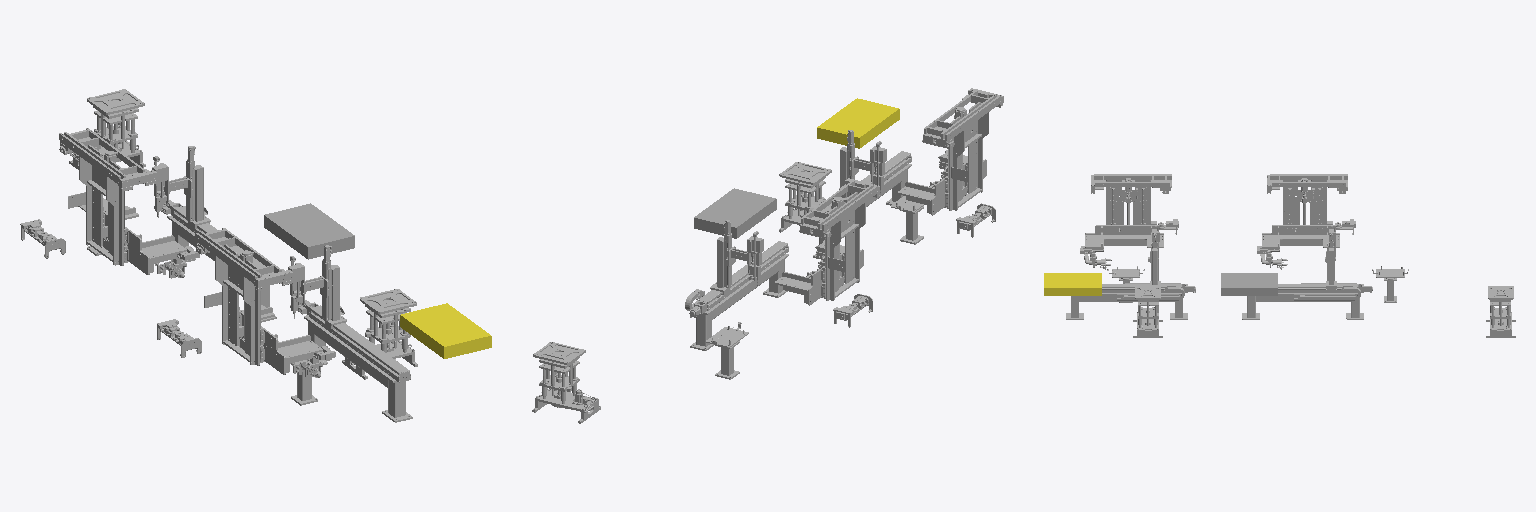
--- Render facts (derived) ---
3 views of the same robot in one strip: view 1: azimuth 30°, elevation 25°; view 2: azimuth 150°, elevation 25°; view 3: azimuth 270°, elevation 25° (orthographic).
Model codenser_double with 41 links and 40 joints (8 revolute, 20 prismatic, 12 fixed), rooted at world, posed all joints at 0.
Visible links, largest first — view 1: c_204_pick_place_system_link_1, c_304_pick_place_system_2_link_1, c_206_height_check_system_base_link, c_207_workpiece_feeder_zone_link, c_307_workpiece_feeder_2_zone_link, c_204_pick_place_system_link_2, c_304_pick_place_system_2_link_2, c_208_workpiece_lifter_link_1, c_308_workpiece_lifter_2_link_1, c_306_height_check_system_2_base_link, c_206_height_check_system_link_1, c_306_height_check_system_2_link_1 (+5 smaller); view 2: c_204_pick_place_system_link_1, c_304_pick_place_system_2_link_1, c_306_height_check_system_2_base_link, c_207_workpiece_feeder_zone_link, c_307_workpiece_feeder_2_zone_link, c_308_workpiece_lifter_2_link_1, c_308_workpiece_lifter_2_base_link, c_204_pick_place_system_link_2, c_304_pick_place_system_2_link_2, c_208_workpiece_lifter_link_1, c_206_height_check_system_base_link, c_305_workpiece_holder_2_base_link (+6 smaller); view 3: c_204_pick_place_system_link_1, c_304_pick_place_system_2_link_1, c_306_height_check_system_2_base_link, c_206_height_check_system_base_link, c_204_pick_place_system_link_2, c_304_pick_place_system_2_link_2, c_207_workpiece_feeder_zone_link, c_307_workpiece_feeder_2_zone_link, c_208_workpiece_lifter_link_1, c_308_workpiece_lifter_2_link_1, c_308_workpiece_lifter_2_base_link.
Link boxes in pixels (left/top/right/bottom): c_204_pick_place_system_link_1: left=195, top=228, right=292, bottom=365; c_304_pick_place_system_2_link_1: left=59, top=128, right=156, bottom=265; c_206_height_check_system_base_link: left=303, top=300, right=412, bottom=422; c_207_workpiece_feeder_zone_link: left=400, top=303, right=491, bottom=358; c_307_workpiece_feeder_2_zone_link: left=264, top=203, right=354, bottom=259; c_204_pick_place_system_link_2: left=239, top=305, right=335, bottom=374; c_304_pick_place_system_2_link_2: left=103, top=206, right=199, bottom=274; c_208_workpiece_lifter_link_1: left=360, top=289, right=416, bottom=352; c_308_workpiece_lifter_2_link_1: left=87, top=89, right=144, bottom=149; c_306_height_check_system_2_base_link: left=167, top=200, right=276, bottom=322; c_206_height_check_system_link_1: left=322, top=245, right=346, bottom=331; c_306_height_check_system_2_link_1: left=186, top=146, right=210, bottom=231; c_204_pick_place_system_link_1: left=922, top=88, right=1003, bottom=210; c_304_pick_place_system_2_link_1: left=799, top=178, right=879, bottom=300; c_306_height_check_system_2_base_link: left=685, top=241, right=788, bottom=350; c_207_workpiece_feeder_zone_link: left=817, top=98, right=899, bottom=148; c_307_workpiece_feeder_2_zone_link: left=694, top=188, right=776, bottom=238; c_308_workpiece_lifter_2_link_1: left=533, top=342, right=585, bottom=400; c_308_workpiece_lifter_2_base_link: left=532, top=361, right=600, bottom=423; c_204_pick_place_system_link_2: left=898, top=150, right=986, bottom=215; c_304_pick_place_system_2_link_2: left=775, top=240, right=863, bottom=305; c_208_workpiece_lifter_link_1: left=779, top=162, right=831, bottom=216; c_206_height_check_system_base_link: left=808, top=151, right=911, bottom=257; c_305_workpiece_holder_2_base_link: left=706, top=322, right=748, bottom=379; c_204_pick_place_system_link_1: left=1091, top=174, right=1171, bottom=224; c_304_pick_place_system_2_link_1: left=1267, top=174, right=1347, bottom=224; c_306_height_check_system_2_base_link: left=1242, top=283, right=1372, bottom=319; c_206_height_check_system_base_link: left=1066, top=283, right=1195, bottom=319; c_204_pick_place_system_link_2: left=1080, top=223, right=1163, bottom=253; c_304_pick_place_system_2_link_2: left=1257, top=223, right=1339, bottom=253; c_207_workpiece_feeder_zone_link: left=1044, top=273, right=1101, bottom=295; c_307_workpiece_feeder_2_zone_link: left=1221, top=273, right=1277, bottom=295; c_208_workpiece_lifter_link_1: left=1135, top=286, right=1160, bottom=325; c_308_workpiece_lifter_2_link_1: left=1488, top=286, right=1513, bottom=325; c_308_workpiece_lifter_2_base_link: left=1486, top=302, right=1515, bottom=337.
Size in the robot's own frame: 1.97 by 5.34 by 1.3 metres.
26 mesh visuals loaded from 19 distinct referenced files (13 binary STL); not drawn: 12 (reference not matched to a file when rendering).

The robot description file, URDF, robot "codenser_double":
<?xml version="1.0" ?>
<!-- =================================================================================== -->
<!-- |    This document was autogenerated by xacro from ./src/component_models/machines/codenser_double/codenser_double_description/urdf/codenser_double.urdf.xacro | -->
<!-- |    EDITING THIS FILE BY HAND IS NOT RECOMMENDED                                 | -->
<!-- =================================================================================== -->
<!-- This URDF was automatically created by SolidWorks to URDF Exporter! Originally created by Stephen Brawner ([email redacted]) 
     Commit Version: 1.6.1-12-ge40d886  Build Version: 1.6.8301.19567
     For more information, please see http://wiki.ros.org/sw_urdf_exporter -->
<robot name="codenser_double">
  <link name="c_203_robot_arm_base_link">
    <inertial>
      <origin rpy="0 0 0" xyz="-2.7746E-05 1.0377E-05 0.11773"/>
      <mass value="2.901"/>
      <inertia ixx="0.021592" ixy="-1.8468E-06" ixz="-9.8111E-08" iyy="0.021626" iyz="1.2451E-07" izz="0.037904"/>
    </inertial>
    <visual>
      <origin rpy="0 0 0" xyz="0 0 0"/>
      <geometry>
        <mesh filename="package://m_2025642_001_description/meshes/base_link.STL"/>
      </geometry>
      <material name="">
        <color rgba="0.75294 0.75294 0.75294 1"/>
      </material>
    </visual>
    <collision>
      <origin rpy="0 0 0" xyz="0 0 0"/>
      <geometry>
        <mesh filename="package://m_2025642_001_description/meshes/base_link.STL"/>
      </geometry>
    </collision>
  </link>
  <link name="c_203_robot_arm_link_1">
    <inertial>
      <origin rpy="0 0 0" xyz="0.27383 -0.0063157 -0.28956"/>
      <mass value="4.7027"/>
      <inertia ixx="0.25522" ixy="0.013056" ixz="-0.34403" iyy="0.85224" iyz="0.0078809" izz="0.63965"/>
    </inertial>
    <visual>
      <origin rpy="0 0 0" xyz="0 0 0"/>
      <geometry>
        <mesh filename="package://m_2025642_001_description/meshes/link_1.STL"/>
      </geometry>
      <material name="">
        <color rgba="0.75294 0.75294 0.75294 1"/>
      </material>
    </visual>
    <collision>
      <origin rpy="0 0 0" xyz="0 0 0"/>
      <geometry>
        <mesh filename="package://m_2025642_001_description/meshes/link_1.STL"/>
      </geometry>
    </collision>
  </link>
  <joint name="c_203_robot_arm_joint_1" type="revolute">
    <origin rpy="0 0 0" xyz="0 0 0.57269"/>
    <parent link="c_203_robot_arm_base_link"/>
    <child link="c_203_robot_arm_link_1"/>
    <axis xyz="0 0 1"/>
    <limit effort="0.1" lower="-1.0" upper="1.0" velocity="0.1"/>
  </joint>
  <link name="c_203_robot_arm_link_2">
    <inertial>
      <origin rpy="0 0 0" xyz="-0.075618 0.013344 -0.40578"/>
      <mass value="4.7027"/>
      <inertia ixx="0.25522" ixy="0.013056" ixz="-0.34403" iyy="0.85224" iyz="0.0078809" izz="0.63965"/>
    </inertial>
    <visual>
      <origin rpy="0 0 0" xyz="0 0 0"/>
      <geometry>
        <mesh filename="package://m_2025642_001_description/meshes/link_2.STL"/>
      </geometry>
      <material name="">
        <color rgba="0.75294 0.75294 0.75294 1"/>
      </material>
    </visual>
    <collision>
      <origin rpy="0 0 0" xyz="0 0 0"/>
      <geometry>
        <mesh filename="package://m_2025642_001_description/meshes/link_2.STL"/>
      </geometry>
    </collision>
  </link>
  <joint name="c_203_robot_arm_joint_2" type="revolute">
    <origin rpy="0 0 0" xyz="0.34945 -0.019659 0.11622"/>
    <parent link="c_203_robot_arm_link_1"/>
    <child link="c_203_robot_arm_link_2"/>
    <axis xyz="0 0 1"/>
    <limit effort="0.1" lower="-1.0" upper="1.0" velocity="0.1"/>
  </joint>
  <link name="c_203_robot_arm_link_3">
    <inertial>
      <origin rpy="0 0 0" xyz="-0.42562 0.013344 -0.39507"/>
      <mass value="4.7027"/>
      <inertia ixx="0.25522" ixy="0.013056" ixz="-0.34403" iyy="0.85224" iyz="0.0078809" izz="0.63965"/>
    </inertial>
    <visual>
      <origin rpy="0 0 0" xyz="0 0 0"/>
      <geometry>
        <mesh filename="package://m_2025642_001_description/meshes/link_3.STL"/>
      </geometry>
      <material name="">
        <color rgba="0.75294 0.75294 0.75294 1"/>
      </material>
    </visual>
    <collision>
      <origin rpy="0 0 0" xyz="0 0 0"/>
      <geometry>
        <mesh filename="package://m_2025642_001_description/meshes/link_3.STL"/>
      </geometry>
    </collision>
  </link>
  <joint name="c_203_robot_arm_joint_3" type="prismatic">
    <origin rpy="0 0 0" xyz="0.35 0 -0.01071"/>
    <parent link="c_203_robot_arm_link_2"/>
    <child link="c_203_robot_arm_link_3"/>
    <axis xyz="0 0 1"/>
    <limit effort="0.1" lower="-0.1" upper="0.05" velocity="0.1"/>
  </joint>
  <link name="c_203_robot_arm_link_4">
    <inertial>
      <origin rpy="0 0 0" xyz="0.018596 0.0019918 0.018216"/>
      <mass value="1.0033"/>
      <inertia ixx="0.00065498" ixy="2.4675E-06" ixz="-1.1852E-05" iyy="0.0040429" iyz="4.0062E-06" izz="0.0045133"/>
    </inertial>
    <visual>
      <origin rpy="0 0 0" xyz="0 0 0"/>
      <geometry>
        <mesh filename="package://m_2025642_001_description/meshes/link_4.STL"/>
      </geometry>
      <material name="">
        <color rgba="0.75294 0.75294 0.75294 1"/>
      </material>
    </visual>
    <collision>
      <origin rpy="0 0 0" xyz="0 0 0"/>
      <geometry>
        <mesh filename="package://m_2025642_001_description/meshes/link_4.STL"/>
      </geometry>
    </collision>
  </link>
  <joint name="c_203_robot_arm_joint_4" type="revolute">
    <origin rpy="0 0 0" xyz="0 0.0020727 -0.155"/>
    <parent link="c_203_robot_arm_link_3"/>
    <child link="c_203_robot_arm_link_4"/>
    <axis xyz="0 0 1"/>
    <limit effort="0.1" lower="-0.2" upper="0.2" velocity="0.1"/>
  </joint>
  <link name="c_203_robot_arm_gripper_right_link">
    <inertial>
      <origin rpy="0 0 0" xyz="-0.042744 0.0023468 0.042891"/>
      <mass value="0.43089"/>
      <inertia ixx="0.00044467" ixy="-5.9136E-06" ixz="5.7977E-05" iyy="0.00073715" iyz="-1.5119E-06" izz="0.00087355"/>
    </inertial>
    <visual>
      <origin rpy="0 0 0" xyz="0 0 0"/>
      <geometry>
        <mesh filename="package://m_2025642_001_description/meshes/gripper_right_link.STL"/>
      </geometry>
      <material name="">
        <color rgba="0.75294 0.75294 0.75294 1"/>
      </material>
    </visual>
    <collision>
      <origin rpy="0 0 0" xyz="0 0 0"/>
      <geometry>
        <mesh filename="package://m_2025642_001_description/meshes/gripper_right_link.STL"/>
      </geometry>
    </collision>
  </link>
  <joint name="c_203_robot_arm_gripper_right_joint" type="prismatic">
    <origin rpy="0 0 0" xyz="0.19 -0.0020727 0.0014243"/>
    <parent link="c_203_robot_arm_link_4"/>
    <child link="c_203_robot_arm_gripper_right_link"/>
    <axis xyz="1 0 0"/>
    <limit effort="0.1" lower="0" upper="0.1" velocity="0.1"/>
  </joint>
  <link name="c_203_robot_arm_gripper_left_link">
    <inertial>
      <origin rpy="0 0 0" xyz="0.007756 0.0016325 0.025599"/>
      <mass value="0.36755"/>
      <inertia ixx="0.00075935" ixy="1.125E-08" ixz="-2.7795E-05" iyy="0.00045486" iyz="5.4225E-08" izz="0.00079529"/>
    </inertial>
    <visual>
      <origin rpy="0 0 0" xyz="0 0 0"/>
      <geometry>
        <mesh filename="package://m_2025642_001_description/meshes/gripper_left_link.STL"/>
      </geometry>
      <material name="">
        <color rgba="0.75294 0.75294 0.75294 1"/>
      </material>
    </visual>
    <collision>
      <origin rpy="0 0 0" xyz="0 0 0"/>
      <geometry>
        <mesh filename="package://m_2025642_001_description/meshes/gripper_left_link.STL"/>
      </geometry>
    </collision>
  </link>
  <joint name="c_203_robot_arm_gripper_left_joint" type="prismatic">
    <origin rpy="0 0 0" xyz="-0.156 -0.0020727 0.0014243"/>
    <parent link="c_203_robot_arm_link_4"/>
    <child link="c_203_robot_arm_gripper_left_link"/>
    <axis xyz="-1 0 0"/>
    <limit effort="0.1" lower="0" upper="0.06" velocity="0.1"/>
  </joint>
  <link name="c_204_pick_place_system_base_link">
    <inertial>
      <origin rpy="0 0 0" xyz="0.58983 0.63355 0.96408"/>
      <mass value="56.671"/>
      <inertia ixx="5.0862" ixy="0.096549" ixz="0.011489" iyy="11.551" iyz="0.00029138" izz="15.131"/>
    </inertial>
    <visual>
      <origin rpy="0 0 0" xyz="0 0 0"/>
      <geometry>
        <mesh filename="package://m_2025643_001_description/meshes/base_link.STL"/>
      </geometry>
      <material name="">
        <color rgba="0.75294 0.75294 0.75294 1"/>
      </material>
    </visual>
    <collision>
      <origin rpy="0 0 0" xyz="0 0 0"/>
      <geometry>
        <mesh filename="package://m_2025643_001_description/meshes/base_link.STL"/>
      </geometry>
    </collision>
  </link>
  <link name="c_204_pick_place_system_link_1">
    <inertial>
      <origin rpy="0 0 0" xyz="0.11461 -0.023751 -0.20534"/>
      <mass value="17.887"/>
      <inertia ixx="0.85265" ixy="0.0020243" ixz="0.0034461" iyy="0.42068" iyz="-0.00010302" izz="0.47399"/>
    </inertial>
    <visual>
      <origin rpy="0 0 0" xyz="0 0 0"/>
      <geometry>
        <mesh filename="package://m_2025643_001_description/meshes/link_1.STL"/>
      </geometry>
      <material name="">
        <color rgba="0.75294 0.75294 0.75294 1"/>
      </material>
    </visual>
    <collision>
      <origin rpy="0 0 0" xyz="0 0 0"/>
      <geometry>
        <mesh filename="package://m_2025643_001_description/meshes/link_1.STL"/>
      </geometry>
    </collision>
  </link>
  <joint name="c_204_pick_place_system_joint_1" type="prismatic">
    <origin rpy="0 0 0" xyz="-0.37671 0.676 1.2315"/>
    <parent link="c_204_pick_place_system_base_link"/>
    <child link="c_204_pick_place_system_link_1"/>
    <axis xyz="1 0 0"/>
    <limit effort="0.1" lower="0" upper="1.5" velocity="0.1"/>
  </joint>
  <link name="c_204_pick_place_system_link_2">
    <inertial>
      <origin rpy="0 0 0" xyz="0.070659 -0.031425 0.0021627"/>
      <mass value="8.1181"/>
      <inertia ixx="0.43894" ixy="0.0013519" ixz="0.00017093" iyy="0.045982" iyz="-0.0024625" izz="0.45094"/>
    </inertial>
    <visual>
      <origin rpy="0 0 0" xyz="0 0 0"/>
      <geometry>
        <mesh filename="package://m_2025643_001_description/meshes/link_2.STL"/>
      </geometry>
      <material name="">
        <color rgba="0.75294 0.75294 0.75294 1"/>
      </material>
    </visual>
    <collision>
      <origin rpy="0 0 0" xyz="0 0 0"/>
      <geometry>
        <mesh filename="package://m_2025643_001_description/meshes/link_2.STL"/>
      </geometry>
    </collision>
  </link>
  <joint name="c_204_pick_place_system_joint_2" type="prismatic">
    <origin rpy="0 0 0" xyz="0.20285 -0.084066 -0.62709"/>
    <parent link="c_204_pick_place_system_link_1"/>
    <child link="c_204_pick_place_system_link_2"/>
    <axis xyz="0 0 1"/>
    <limit effort="0.1" lower="0" upper="0.5" velocity="0.1"/>
  </joint>
  <link name="c_204_pick_place_system_gripper_left_link">
    <inertial>
      <origin rpy="0 0 0" xyz="-0.016946 -0.019226 -0.088431"/>
      <mass value="1.0465"/>
      <inertia ixx="0.0009527" ixy="-0.00010594" ixz="0.00013512" iyy="0.0010535" iyz="0.00011099" izz="0.001289"/>
    </inertial>
    <visual>
      <origin rpy="0 0 0" xyz="0 0 0"/>
      <geometry>
        <mesh filename="package://m_2025643_001_description/meshes/gripper_left_link.STL"/>
      </geometry>
      <material name="">
        <color rgba="0.75294 0.75294 0.75294 1"/>
      </material>
    </visual>
    <collision>
      <origin rpy="0 0 0" xyz="0 0 0"/>
      <geometry>
        <mesh filename="package://m_2025643_001_description/meshes/gripper_left_link.STL"/>
      </geometry>
    </collision>
  </link>
  <joint name="c_204_pick_place_system_gripper_left_joint" type="prismatic">
    <origin rpy="0 0 0" xyz="0.286 -0.37124 -0.046329"/>
    <parent link="c_204_pick_place_system_link_2"/>
    <child link="c_204_pick_place_system_gripper_left_link"/>
    <axis xyz="0 1 0"/>
    <limit effort="0.1" lower="0" upper="0.1" velocity="0.1"/>
  </joint>
  <link name="c_204_pick_place_system_finger_left_link">
    <inertial>
      <origin rpy="0 0 0" xyz="0.0044985 0.062888 -0.006434"/>
      <mass value="0.38585"/>
      <inertia ixx="0.00020691" ixy="2.0797E-07" ixz="-4.5948E-07" iyy="0.00034559" iyz="-3.5191E-07" izz="0.00038383"/>
    </inertial>
    <visual>
      <origin rpy="0 0 0" xyz="0 0 0"/>
      <geometry>
        <mesh filename="package://m_2025643_001_description/meshes/finger_left_link.STL"/>
      </geometry>
      <material name="">
        <color rgba="0.75294 0.75294 0.75294 1"/>
      </material>
    </visual>
    <collision>
      <origin rpy="0 0 0" xyz="0 0 0"/>
      <geometry>
        <mesh filename="package://m_2025643_001_description/meshes/finger_left_link.STL"/>
      </geometry>
    </collision>
  </link>
  <joint name="c_204_pick_place_system_finger_left_joint" type="revolute">
    <origin rpy="0 0 0" xyz="0 0.047 -0.148"/>
    <parent link="c_204_pick_place_system_gripper_left_link"/>
    <child link="c_204_pick_place_system_finger_left_link"/>
    <axis xyz="0 1 0"/>
    <limit effort="0.1" lower="-0.5" upper="0.5" velocity="0.1"/>
  </joint>
  <link name="c_208_workpiece_lifter_base_link">
    <inertial>
      <origin rpy="0 0 0" xyz="0.23397 0.00029888 0.15629"/>
      <mass value="5.7833"/>
      <inertia ixx="0.029824" ixy="0.0001163" ixz="-2.0315E-05" iyy="0.044642" iyz="3.2398E-05" izz="0.057924"/>
    </inertial>
    <visual>
      <origin rpy="0 0 0" xyz="0 0 0"/>
      <geometry>
        <mesh filename="package://m_2063306_000_description/meshes/base_link.STL"/>
      </geometry>
      <material name="">
        <color rgba="0.75294 0.75294 0.75294 1"/>
      </material>
    </visual>
    <collision>
      <origin rpy="0 0 0" xyz="0 0 0"/>
      <geometry>
        <mesh filename="package://m_2063306_000_description/meshes/base_link.STL"/>
      </geometry>
    </collision>
  </link>
  <link name="c_208_workpiece_lifter_link_1">
    <inertial>
      <origin rpy="0 0 0" xyz="-0.0010188 0.00075539 0.25483"/>
      <mass value="4.9135"/>
      <inertia ixx="0.023378" ixy="-0.00023389" ixz="5.6233E-06" iyy="0.026512" iyz="-1.1668E-05" izz="0.044967"/>
    </inertial>
    <visual>
      <origin rpy="0 0 0" xyz="0 0 0"/>
      <geometry>
        <mesh filename="package://m_2063306_000_description/meshes/link_1.STL"/>
      </geometry>
      <material name="">
        <color rgba="0.75294 0.75294 0.75294 1"/>
      </material>
    </visual>
    <collision>
      <origin rpy="0 0 0" xyz="0 0 0"/>
      <geometry>
        <mesh filename="package://m_2063306_000_description/meshes/link_1.STL"/>
      </geometry>
    </collision>
  </link>
  <joint name="c_208_workpiece_lifter_joint_1" type="prismatic">
    <origin rpy="0 0 0" xyz="0.2845 0 0.127"/>
    <parent link="c_208_workpiece_lifter_base_link"/>
    <child link="c_208_workpiece_lifter_link_1"/>
    <axis xyz="0 0 1"/>
    <limit effort="0.1" lower="0" upper="0.1" velocity="0.1"/>
  </joint>
  <link name="c_205_workpiece_holder_base_link">
    <inertial>
      <origin rpy="0 0 0" xyz="-0.00033345 0.00023906 0.25293"/>
      <mass value="2.0735"/>
      <inertia ixx="0.0091049" ixy="-7.0561E-07" ixz="-1.5489E-07" iyy="0.0061399" iyz="4.7348E-08" izz="0.012288"/>
    </inertial>
    <visual>
      <origin rpy="0 0 0" xyz="0 0 0"/>
      <geometry>
        <mesh filename="package://m_2154940_001_description/meshes/base_link.STL"/>
      </geometry>
      <material name="">
        <color rgba="0.75294 0.75294 0.75294 1"/>
      </material>
    </visual>
    <collision>
      <origin rpy="0 0 0" xyz="0 0 0"/>
      <geometry>
        <mesh filename="package://m_2154940_001_description/meshes/base_link.STL"/>
      </geometry>
    </collision>
  </link>
  <link name="c_206_height_check_system_base_link">
    <inertial>
      <origin rpy="0 0 0" xyz="-0.0079588 0.53745 0.29257"/>
      <mass value="25.945"/>
      <inertia ixx="3.1047" ixy="7.4183E-05" ixz="-0.00021729" iyy="0.061286" iyz="0.0088416" izz="3.1103"/>
    </inertial>
    <visual>
      <origin rpy="0 0 0" xyz="0 0 0"/>
      <geometry>
        <mesh filename="package://m_4730788_001_description/meshes/base_link.STL"/>
      </geometry>
      <material name="">
        <color rgba="0.75294 0.75294 0.75294 1"/>
      </material>
    </visual>
    <collision>
      <origin rpy="0 0 0" xyz="0 0 0"/>
      <geometry>
        <mesh filename="package://m_4730788_001_description/meshes/base_link.STL"/>
      </geometry>
    </collision>
  </link>
  <link name="c_206_height_check_system_link_1">
    <inertial>
      <origin rpy="0 0 0" xyz="0.035968 0.27493 0.22182"/>
      <mass value="5.6095"/>
      <inertia ixx="0.069776" ixy="-4.5144E-06" ixz="-0.00039418" iyy="0.068863" iyz="-3.9361E-06" izz="0.0062752"/>
    </inertial>
    <visual>
      <origin rpy="0 0 0" xyz="0 0 0"/>
      <geometry>
        <mesh filename="package://m_4730788_001_description/meshes/link_1.STL"/>
      </geometry>
      <material name="">
        <color rgba="0.75294 0.75294 0.75294 1"/>
      </material>
    </visual>
    <collision>
      <origin rpy="0 0 0" xyz="0 0 0"/>
      <geometry>
        <mesh filename="package://m_4730788_001_description/meshes/link_1.STL"/>
      </geometry>
    </collision>
  </link>
  <joint name="c_206_height_check_system_joint_1" type="prismatic">
    <origin rpy="0 0 0" xyz="0 -0.0041461 0.37535"/>
    <parent link="c_206_height_check_system_base_link"/>
    <child link="c_206_height_check_system_link_1"/>
    <axis xyz="0 1 0"/>
    <limit effort="0.1" lower="0" upper="1.0" velocity="0.1"/>
  </joint>
  <link name="c_206_height_check_system_link_2">
    <inertial>
      <origin rpy="0 0 0" xyz="0.1819 1.4438E-05 -0.12956"/>
      <mass value="1.8798"/>
      <inertia ixx="0.0025187" ixy="-1.2207E-05" ixz="8.5334E-07" iyy="0.0027656" iyz="1.0645E-07" izz="0.0012183"/>
    </inertial>
    <visual>
      <origin rpy="0 0 0" xyz="0 0 0"/>
      <geometry>
        <mesh filename="package://m_4730788_001_description/meshes/link_2.STL"/>
      </geometry>
      <material name="">
        <color rgba="0.75294 0.75294 0.75294 1"/>
      </material>
    </visual>
    <collision>
      <origin rpy="0 0 0" xyz="0 0 0"/>
      <geometry>
        <mesh filename="package://m_4730788_001_description/meshes/link_2.STL"/>
      </geometry>
    </collision>
  </link>
  <joint name="c_206_height_check_system_joint_2" type="prismatic">
    <origin rpy="0 0 0" xyz="0.074922 0.27494 0.46365"/>
    <parent link="c_206_height_check_system_link_1"/>
    <child link="c_206_height_check_system_link_2"/>
    <axis xyz="0 0 1"/>
    <limit effort="0.1" lower="-0.2" upper="0.25" velocity="0.1"/>
  </joint>
  <link name="c_207_workpiece_feeder_base_link">
    <inertial>
      <origin rpy="0 0 0" xyz="-0.14164 -0.59781 -0.44321"/>
      <mass value="21.523"/>
      <inertia ixx="0.088184" ixy="3.5897E-05" ixz="-1.1803E-05" iyy="2.7101" iyz="-0.0006684" izz="2.6633"/>
    </inertial>
    <visual>
      <origin rpy="0 0 0" xyz="0 0 0"/>
      <geometry>
        <mesh filename="package://m_5326927_001_description/meshes/base_link.STL"/>
      </geometry>
      <material name="">
        <color rgba="0.8549 0.74118 0.91765 1"/>
      </material>
    </visual>
    <collision>
      <origin rpy="0 0 0" xyz="0 0 0"/>
      <geometry>
        <mesh filename="package://m_5326927_001_description/meshes/base_link.STL"/>
      </geometry>
    </collision>
  </link>
  <link name="c_207_workpiece_feeder_zone_link">
    <visual>
      <origin rpy="0 0 0" xyz="0 0 0"/>
      <geometry>
        <box size="0.4 0.65 0.1"/>
      </geometry>
    </visual>
    <collision>
      <origin rpy="0 0 0" xyz="0 0 0"/>
      <geometry>
        <box size="0.4 0.65 0.1"/>
      </geometry>
    </collision>
  </link>
  <joint name="c_207_workpiece_feeder_joint_1" type="prismatic">
    <origin rpy="0 0 0" xyz="0 0 0.6"/>
    <parent link="c_207_workpiece_feeder_base_link"/>
    <child link="c_207_workpiece_feeder_zone_link"/>
    <axis xyz="0 1 0"/>
    <limit effort="0.1" lower="0" upper="1.5" velocity="0.1"/>
  </joint>
  <link name="c_303_robot_arm_2_base_link">
    <inertial>
      <origin rpy="0 0 0" xyz="-2.7746E-05 1.0377E-05 0.11773"/>
      <mass value="2.901"/>
      <inertia ixx="0.021592" ixy="-1.8468E-06" ixz="-9.8111E-08" iyy="0.021626" iyz="1.2451E-07" izz="0.037904"/>
    </inertial>
    <visual>
      <origin rpy="0 0 0" xyz="0 0 0"/>
      <geometry>
        <mesh filename="package://m_2025642_001_description/meshes/base_link.STL"/>
      </geometry>
      <material name="">
        <color rgba="0.75294 0.75294 0.75294 1"/>
      </material>
    </visual>
    <collision>
      <origin rpy="0 0 0" xyz="0 0 0"/>
      <geometry>
        <mesh filename="package://m_2025642_001_description/meshes/base_link.STL"/>
      </geometry>
    </collision>
  </link>
  <link name="c_303_robot_arm_2_link_1">
    <inertial>
      <origin rpy="0 0 0" xyz="0.27383 -0.0063157 -0.28956"/>
      <mass value="4.7027"/>
      <inertia ixx="0.25522" ixy="0.013056" ixz="-0.34403" iyy="0.85224" iyz="0.0078809" izz="0.63965"/>
    </inertial>
    <visual>
      <origin rpy="0 0 0" xyz="0 0 0"/>
      <geometry>
        <mesh filename="package://m_2025642_001_description/meshes/link_1.STL"/>
      </geometry>
      <material name="">
        <color rgba="0.75294 0.75294 0.75294 1"/>
      </material>
    </visual>
    <collision>
      <origin rpy="0 0 0" xyz="0 0 0"/>
      <geometry>
        <mesh filename="package://m_2025642_001_description/meshes/link_1.STL"/>
      </geometry>
    </collision>
  </link>
  <joint name="c_303_robot_arm_2_joint_1" type="revolute">
    <origin rpy="0 0 0" xyz="0 0 0.57269"/>
    <parent link="c_303_robot_arm_2_base_link"/>
    <child link="c_303_robot_arm_2_link_1"/>
    <axis xyz="0 0 1"/>
    <limit effort="0.1" lower="-1.0" upper="1.0" velocity="0.1"/>
  </joint>
  <link name="c_303_robot_arm_2_link_2">
    <inertial>
      <origin rpy="0 0 0" xyz="-0.075618 0.013344 -0.40578"/>
      <mass value="4.7027"/>
      <inertia ixx="0.25522" ixy="0.013056" ixz="-0.34403" iyy="0.85224" iyz="0.0078809" izz="0.63965"/>
    </inertial>
    <visual>
      <origin rpy="0 0 0" xyz="0 0 0"/>
      <geometry>
        <mesh filename="package://m_2025642_001_description/meshes/link_2.STL"/>
      </geometry>
      <material name="">
        <color rgba="0.75294 0.75294 0.75294 1"/>
      </material>
    </visual>
    <collision>
      <origin rpy="0 0 0" xyz="0 0 0"/>
      <geometry>
        <mesh filename="package://m_2025642_001_description/meshes/link_2.STL"/>
      </geometry>
    </collision>
  </link>
  <joint name="c_303_robot_arm_2_joint_2" type="revolute">
    <origin rpy="0 0 0" xyz="0.34945 -0.019659 0.11622"/>
    <parent link="c_303_robot_arm_2_link_1"/>
    <child link="c_303_robot_arm_2_link_2"/>
    <axis xyz="0 0 1"/>
    <limit effort="0.1" lower="-1.0" upper="1.0" velocity="0.1"/>
  </joint>
  <link name="c_303_robot_arm_2_link_3">
    <inertial>
      <origin rpy="0 0 0" xyz="-0.42562 0.013344 -0.39507"/>
      <mass value="4.7027"/>
      <inertia ixx="0.25522" ixy="0.013056" ixz="-0.34403" iyy="0.85224" iyz="0.0078809" izz="0.63965"/>
    </inertial>
    <visual>
      <origin rpy="0 0 0" xyz="0 0 0"/>
      <geometry>
        <mesh filename="package://m_2025642_001_description/meshes/link_3.STL"/>
      </geometry>
      <material name="">
        <color rgba="0.75294 0.75294 0.75294 1"/>
      </material>
    </visual>
    <collision>
      <origin rpy="0 0 0" xyz="0 0 0"/>
      <geometry>
        <mesh filename="package://m_2025642_001_description/meshes/link_3.STL"/>
      </geometry>
    </collision>
  </link>
  <joint name="c_303_robot_arm_2_joint_3" type="prismatic">
    <origin rpy="0 0 0" xyz="0.35 0 -0.01071"/>
    <parent link="c_303_robot_arm_2_link_2"/>
    <child link="c_303_robot_arm_2_link_3"/>
    <axis xyz="0 0 1"/>
    <limit effort="0.1" lower="-0.1" upper="0.05" velocity="0.1"/>
  </joint>
  <link name="c_303_robot_arm_2_link_4">
    <inertial>
      <origin rpy="0 0 0" xyz="0.018596 0.0019918 0.018216"/>
      <mass value="1.0033"/>
      <inertia ixx="0.00065498" ixy="2.4675E-06" ixz="-1.1852E-05" iyy="0.0040429" iyz="4.0062E-06" izz="0.0045133"/>
    </inertial>
    <visual>
      <origin rpy="0 0 0" xyz="0 0 0"/>
      <geometry>
        <mesh filename="package://m_2025642_001_description/meshes/link_4.STL"/>
      </geometry>
      <material name="">
        <color rgba="0.75294 0.75294 0.75294 1"/>
      </material>
    </visual>
    <collision>
      <origin rpy="0 0 0" xyz="0 0 0"/>
      <geometry>
        <mesh filename="package://m_2025642_001_description/meshes/link_4.STL"/>
      </geometry>
    </collision>
  </link>
  <joint name="c_303_robot_arm_2_joint_4" type="revolute">
    <origin rpy="0 0 0" xyz="0 0.0020727 -0.155"/>
    <parent link="c_303_robot_arm_2_link_3"/>
    <child link="c_303_robot_arm_2_link_4"/>
    <axis xyz="0 0 1"/>
    <limit effort="0.1" lower="-0.2" upper="0.2" velocity="0.1"/>
  </joint>
  <link name="c_303_robot_arm_2_gripper_right_link">
    <inertial>
      <origin rpy="0 0 0" xyz="-0.042744 0.0023468 0.042891"/>
      <mass value="0.43089"/>
      <inertia ixx="0.00044467" ixy="-5.9136E-06" ixz="5.7977E-05" iyy="0.00073715" iyz="-1.5119E-06" izz="0.00087355"/>
    </inertial>
    <visual>
      <origin rpy="0 0 0" xyz="0 0 0"/>
      <geometry>
        <mesh filename="package://m_2025642_001_description/meshes/gripper_right_link.STL"/>
      </geometry>
      <material name="">
        <color rgba="0.75294 0.75294 0.75294 1"/>
      </material>
    </visual>
    <collision>
      <origin rpy="0 0 0" xyz="0 0 0"/>
      <geometry>
        <mesh filename="package://m_2025642_001_description/meshes/gripper_right_link.STL"/>
      </geometry>
    </collision>
  </link>
  <joint name="c_303_robot_arm_2_gripper_right_joint" type="prismatic">
    <origin rpy="0 0 0" xyz="0.19 -0.0020727 0.0014243"/>
    <parent link="c_303_robot_arm_2_link_4"/>
    <child link="c_303_robot_arm_2_gripper_right_link"/>
    <axis xyz="1 0 0"/>
    <limit effort="0.1" lower="0" upper="0.1" velocity="0.1"/>
  </joint>
  <link name="c_303_robot_arm_2_gripper_left_link">
    <inertial>
      <origin rpy="0 0 0" xyz="0.007756 0.0016325 0.025599"/>
      <mass value="0.36755"/>
      <inertia ixx="0.00075935" ixy="1.125E-08" ixz="-2.7795E-05" iyy="0.00045486" iyz="5.4225E-08" izz="0.00079529"/>
    </inertial>
    <visual>
      <origin rpy="0 0 0" xyz="0 0 0"/>
      <geometry>
        <mesh filename="package://m_2025642_001_description/meshes/gripper_left_link.STL"/>
      </geometry>
      <material name="">
        <color rgba="0.75294 0.75294 0.75294 1"/>
      </material>
    </visual>
    <collision>
      <origin rpy="0 0 0" xyz="0 0 0"/>
      <geometry>
        <mesh filename="package://m_2025642_001_description/meshes/gripper_left_link.STL"/>
      </geometry>
    </collision>
  </link>
  <joint name="c_303_robot_arm_2_gripper_left_joint" type="prismatic">
    <origin rpy="0 0 0" xyz="-0.156 -0.0020727 0.0014243"/>
    <parent link="c_303_robot_arm_2_link_4"/>
    <child link="c_303_robot_arm_2_gripper_left_link"/>
    <axis xyz="-1 0 0"/>
    <limit effort="0.1" lower="0" upper="0.06" velocity="0.1"/>
  </joint>
  <link name="c_304_pick_place_system_2_base_link">
    <inertial>
      <origin rpy="0 0 0" xyz="0.58983 0.63355 0.96408"/>
      <mass value="56.671"/>
      <inertia ixx="5.0862" ixy="0.096549" ixz="0.011489" iyy="11.551" iyz="0.00029138" izz="15.131"/>
    </inertial>
    <visual>
      <origin rpy="0 0 0" xyz="0 0 0"/>
      <geometry>
        <mesh filename="package://m_2025643_001_description/meshes/base_link.STL"/>
      </geometry>
      <material name="">
        <color rgba="0.75294 0.75294 0.75294 1"/>
      </material>
    </visual>
    <collision>
      <origin rpy="0 0 0" xyz="0 0 0"/>
      <geometry>
        <mesh filename="package://m_2025643_001_description/meshes/base_link.STL"/>
      </geometry>
    </collision>
  </link>
  <link name="c_304_pick_place_system_2_link_1">
    <inertial>
      <origin rpy="0 0 0" xyz="0.11461 -0.023751 -0.20534"/>
      <mass value="17.887"/>
      <inertia ixx="0.85265" ixy="0.0020243" ixz="0.0034461" iyy="0.42068" iyz="-0.00010302" izz="0.47399"/>
    </inertial>
    <visual>
      <origin rpy="0 0 0" xyz="0 0 0"/>
      <geometry>
        <mesh filename="package://m_2025643_001_description/meshes/link_1.STL"/>
      </geometry>
      <material name="">
        <color rgba="0.75294 0.75294 0.75294 1"/>
      </material>
    </visual>
    <collision>
      <origin rpy="0 0 0" xyz="0 0 0"/>
      <geometry>
        <mesh filename="package://m_2025643_001_description/meshes/link_1.STL"/>
      </geometry>
    </collision>
  </link>
  <joint name="c_304_pick_place_system_2_joint_1" type="prismatic">
    <origin rpy="0 0 0" xyz="-0.37671 0.676 1.2315"/>
    <parent link="c_304_pick_place_system_2_base_link"/>
    <child link="c_304_pick_place_system_2_link_1"/>
    <axis xyz="1 0 0"/>
    <limit effort="0.1" lower="0" upper="1.5" velocity="0.1"/>
  </joint>
  <link name="c_304_pick_place_system_2_link_2">
    <inertial>
      <origin rpy="0 0 0" xyz="0.070659 -0.031425 0.0021627"/>
      <mass value="8.1181"/>
      <inertia ixx="0.43894" ixy="0.0013519" ixz="0.00017093" iyy="0.045982" iyz="-0.0024625" izz="0.45094"/>
    </inertial>
    <visual>
      <origin rpy="0 0 0" xyz="0 0 0"/>
      <geometry>
        <mesh filename="package://m_2025643_001_description/meshes/link_2.STL"/>
      </geometry>
      <material name="">
        <color rgba="0.75294 0.75294 0.75294 1"/>
      </material>
    </visual>
    <collision>
      <origin rpy="0 0 0" xyz="0 0 0"/>
      <geometry>
        <mesh filename="package://m_2025643_001_description/meshes/link_2.STL"/>
      </geometry>
    </collision>
  </link>
  <joint name="c_304_pick_place_system_2_joint_2" type="prismatic">
    <origin rpy="0 0 0" xyz="0.20285 -0.084066 -0.62709"/>
    <parent link="c_304_pick_place_system_2_link_1"/>
    <child link="c_304_pick_place_system_2_link_2"/>
    <axis xyz="0 0 1"/>
    <limit effort="0.1" lower="0" upper="0.5" velocity="0.1"/>
  </joint>
  <link name="c_304_pick_place_system_2_gripper_left_link">
    <inertial>
      <origin rpy="0 0 0" xyz="-0.016946 -0.019226 -0.088431"/>
      <mass value="1.0465"/>
      <inertia ixx="0.0009527" ixy="-0.00010594" ixz="0.00013512" iyy="0.0010535" iyz="0.00011099" izz="0.001289"/>
    </inertial>
    <visual>
      <origin rpy="0 0 0" xyz="0 0 0"/>
      <geometry>
        <mesh filename="package://m_2025643_001_description/meshes/gripper_left_link.STL"/>
      </geometry>
      <material name="">
        <color rgba="0.75294 0.75294 0.75294 1"/>
      </material>
    </visual>
    <collision>
      <origin rpy="0 0 0" xyz="0 0 0"/>
      <geometry>
        <mesh filename="package://m_2025643_001_description/meshes/gripper_left_link.STL"/>
      </geometry>
    </collision>
  </link>
  <joint name="c_304_pick_place_system_2_gripper_left_joint" type="prismatic">
    <origin rpy="0 0 0" xyz="0.286 -0.37124 -0.046329"/>
    <parent link="c_304_pick_place_system_2_link_2"/>
    <child link="c_304_pick_place_system_2_gripper_left_link"/>
    <axis xyz="0 1 0"/>
    <limit effort="0.1" lower="0" upper="0.1" velocity="0.1"/>
  </joint>
  <link name="c_304_pick_place_system_2_finger_left_link">
    <inertial>
      <origin rpy="0 0 0" xyz="0.0044985 0.062888 -0.006434"/>
      <mass value="0.38585"/>
      <inertia ixx="0.00020691" ixy="2.0797E-07" ixz="-4.5948E-07" iyy="0.00034559" iyz="-3.5191E-07" izz="0.00038383"/>
    </inertial>
    <visual>
      <origin rpy="0 0 0" xyz="0 0 0"/>
      <geometry>
        <mesh filename="package://m_2025643_001_description/meshes/finger_left_link.STL"/>
      </geometry>
      <material name="">
        <color rgba="0.75294 0.75294 0.75294 1"/>
      </material>
    </visual>
    <collision>
      <origin rpy="0 0 0" xyz="0 0 0"/>
      <geometry>
        <mesh filename="package://m_2025643_001_description/meshes/finger_left_link.STL"/>
      </geometry>
    </collision>
  </link>
  <joint name="c_304_pick_place_system_2_finger_left_joint" type="revolute">
    <origin rpy="0 0 0" xyz="0 0.047 -0.148"/>
    <parent link="c_304_pick_place_system_2_gripper_left_link"/>
    <child link="c_304_pick_place_system_2_finger_left_link"/>
    <axis xyz="0 1 0"/>
    <limit effort="0.1" lower="-0.5" upper="0.5" velocity="0.1"/>
  </joint>
  <link name="c_308_workpiece_lifter_2_base_link">
    <inertial>
      <origin rpy="0 0 0" xyz="0.23397 0.00029888 0.15629"/>
      <mass value="5.7833"/>
      <inertia ixx="0.029824" ixy="0.0001163" ixz="-2.0315E-05" iyy="0.044642" iyz="3.2398E-05" izz="0.057924"/>
    </inertial>
    <visual>
      <origin rpy="0 0 0" xyz="0 0 0"/>
      <geometry>
        <mesh filename="package://m_2063306_000_description/meshes/base_link.STL"/>
      </geometry>
      <material name="">
        <color rgba="0.75294 0.75294 0.75294 1"/>
      </material>
    </visual>
    <collision>
      <origin rpy="0 0 0" xyz="0 0 0"/>
      <geometry>
        <mesh filename="package://m_2063306_000_description/meshes/base_link.STL"/>
      </geometry>
    </collision>
  </link>
  <link name="c_308_workpiece_lifter_2_link_1">
    <inertial>
      <origin rpy="0 0 0" xyz="-0.0010188 0.00075539 0.25483"/>
      <mass value="4.9135"/>
      <inertia ixx="0.023378" ixy="-0.00023389" ixz="5.6233E-06" iyy="0.026512" iyz="-1.1668E-05" izz="0.044967"/>
    </inertial>
    <visual>
      <origin rpy="0 0 0" xyz="0 0 0"/>
      <geometry>
        <mesh filename="package://m_2063306_000_description/meshes/link_1.STL"/>
      </geometry>
      <material name="">
        <color rgba="0.75294 0.75294 0.75294 1"/>
      </material>
    </visual>
    <collision>
      <origin rpy="0 0 0" xyz="0 0 0"/>
      <geometry>
        <mesh filename="package://m_2063306_000_description/meshes/link_1.STL"/>
      </geometry>
    </collision>
  </link>
  <joint name="c_308_workpiece_lifter_2_joint_1" type="prismatic">
    <origin rpy="0 0 0" xyz="0.2845 0 0.127"/>
    <parent link="c_308_workpiece_lifter_2_base_link"/>
    <child link="c_308_workpiece_lifter_2_link_1"/>
    <axis xyz="0 0 1"/>
    <limit effort="0.1" lower="0" upper="0.1" velocity="0.1"/>
  </joint>
  <link name="c_305_workpiece_holder_2_base_link">
    <inertial>
      <origin rpy="0 0 0" xyz="-0.00033345 0.00023906 0.25293"/>
      <mass value="2.0735"/>
      <inertia ixx="0.0091049" ixy="-7.0561E-07" ixz="-1.5489E-07" iyy="0.0061399" iyz="4.7348E-08" izz="0.012288"/>
    </inertial>
    <visual>
      <origin rpy="0 0 0" xyz="0 0 0"/>
      <geometry>
        <mesh filename="package://m_2154940_001_description/meshes/base_link.STL"/>
      </geometry>
      <material name="">
        <color rgba="0.75294 0.75294 0.75294 1"/>
      </material>
    </visual>
    <collision>
      <origin rpy="0 0 0" xyz="0 0 0"/>
      <geometry>
        <mesh filename="package://m_2154940_001_description/meshes/base_link.STL"/>
      </geometry>
    </collision>
  </link>
  <link name="c_306_height_check_system_2_base_link">
    <inertial>
      <origin rpy="0 0 0" xyz="-0.0079588 0.53745 0.29257"/>
      <mass value="25.945"/>
      <inertia ixx="3.1047" ixy="7.4183E-05" ixz="-0.00021729" iyy="0.061286" iyz="0.0088416" izz="3.1103"/>
    </inertial>
    <visual>
      <origin rpy="0 0 0" xyz="0 0 0"/>
      <geometry>
        <mesh filename="package://m_4730788_001_description/meshes/base_link.STL"/>
      </geometry>
      <material name="">
        <color rgba="0.75294 0.75294 0.75294 1"/>
      </material>
    </visual>
    <collision>
      <origin rpy="0 0 0" xyz="0 0 0"/>
      <geometry>
        <mesh filename="package://m_4730788_001_description/meshes/base_link.STL"/>
      </geometry>
    </collision>
  </link>
  <link name="c_306_height_check_system_2_link_1">
    <inertial>
      <origin rpy="0 0 0" xyz="0.035968 0.27493 0.22182"/>
      <mass value="5.6095"/>
      <inertia ixx="0.069776" ixy="-4.5144E-06" ixz="-0.00039418" iyy="0.068863" iyz="-3.9361E-06" izz="0.0062752"/>
    </inertial>
    <visual>
      <origin rpy="0 0 0" xyz="0 0 0"/>
      <geometry>
        <mesh filename="package://m_4730788_001_description/meshes/link_1.STL"/>
      </geometry>
      <material name="">
        <color rgba="0.75294 0.75294 0.75294 1"/>
      </material>
    </visual>
    <collision>
      <origin rpy="0 0 0" xyz="0 0 0"/>
      <geometry>
        <mesh filename="package://m_4730788_001_description/meshes/link_1.STL"/>
      </geometry>
    </collision>
  </link>
  <joint name="c_306_height_check_system_2_joint_1" type="prismatic">
    <origin rpy="0 0 0" xyz="0 -0.0041461 0.37535"/>
    <parent link="c_306_height_check_system_2_base_link"/>
    <child link="c_306_height_check_system_2_link_1"/>
    <axis xyz="0 1 0"/>
    <limit effort="0.1" lower="0" upper="1.0" velocity="0.1"/>
  </joint>
  <link name="c_306_height_check_system_2_link_2">
    <inertial>
      <origin rpy="0 0 0" xyz="0.1819 1.4438E-05 -0.12956"/>
      <mass value="1.8798"/>
      <inertia ixx="0.0025187" ixy="-1.2207E-05" ixz="8.5334E-07" iyy="0.0027656" iyz="1.0645E-07" izz="0.0012183"/>
    </inertial>
    <visual>
      <origin rpy="0 0 0" xyz="0 0 0"/>
      <geometry>
        <mesh filename="package://m_4730788_001_description/meshes/link_2.STL"/>
      </geometry>
      <material name="">
        <color rgba="0.75294 0.75294 0.75294 1"/>
      </material>
    </visual>
    <collision>
      <origin rpy="0 0 0" xyz="0 0 0"/>
      <geometry>
        <mesh filename="package://m_4730788_001_description/meshes/link_2.STL"/>
      </geometry>
    </collision>
  </link>
  <joint name="c_306_height_check_system_2_joint_2" type="prismatic">
    <origin rpy="0 0 0" xyz="0.074922 0.27494 0.46365"/>
    <parent link="c_306_height_check_system_2_link_1"/>
    <child link="c_306_height_check_system_2_link_2"/>
    <axis xyz="0 0 1"/>
    <limit effort="0.1" lower="-0.2" upper="0.25" velocity="0.1"/>
  </joint>
  <link name="c_307_workpiece_feeder_2_base_link">
    <inertial>
      <origin rpy="0 0 0" xyz="-0.14164 -0.59781 -0.44321"/>
      <mass value="21.523"/>
      <inertia ixx="0.088184" ixy="3.5897E-05" ixz="-1.1803E-05" iyy="2.7101" iyz="-0.0006684" izz="2.6633"/>
    </inertial>
    <visual>
      <origin rpy="0 0 0" xyz="0 0 0"/>
      <geometry>
        <mesh filename="package://m_5326927_001_description/meshes/base_link.STL"/>
      </geometry>
      <material name="">
        <color rgba="0.8549 0.74118 0.91765 1"/>
      </material>
    </visual>
    <collision>
      <origin rpy="0 0 0" xyz="0 0 0"/>
      <geometry>
        <mesh filename="package://m_5326927_001_description/meshes/base_link.STL"/>
      </geometry>
    </collision>
  </link>
  <link name="c_307_workpiece_feeder_2_zone_link">
    <visual>
      <origin rpy="0 0 0" xyz="0 0 0"/>
      <geometry>
        <box size="0.4 0.65 0.1"/>
      </geometry>
    </visual>
    <collision>
      <origin rpy="0 0 0" xyz="0 0 0"/>
      <geometry>
        <box size="0.4 0.65 0.1"/>
      </geometry>
    </collision>
  </link>
  <joint name="c_307_workpiece_feeder_2_joint_1" type="prismatic">
    <origin rpy="0 0 0" xyz="0 0 0.6"/>
    <parent link="c_307_workpiece_feeder_2_base_link"/>
    <child link="c_307_workpiece_feeder_2_zone_link"/>
    <axis xyz="0 1 0"/>
    <limit effort="0.1" lower="0" upper="1.5" velocity="0.1"/>
  </joint>
  <link name="world"/>
  <joint name="c_203_robot_arm_joint" type="fixed">
    <origin rpy="0 0 1.571" xyz="-0.6 0.3 0"/>
    <parent link="world"/>
    <child link="c_203_robot_arm_base_link"/>
  </joint>
  <joint name="c_204_pick_place_system_joint" type="fixed">
    <origin rpy="0 0 0" xyz="0 0 0"/>
    <parent link="world"/>
    <child link="c_204_pick_place_system_base_link"/>
  </joint>
  <joint name="c_205_workpiece_holder_joint" type="fixed">
    <origin rpy="0 0 0" xyz="0.25 0.6 0"/>
    <parent link="world"/>
    <child link="c_205_workpiece_holder_base_link"/>
  </joint>
  <joint name="c_206_height_check_system_joint" type="fixed">
    <origin rpy="0 0 3.142" xyz="0.7 1.2 0"/>
    <parent link="world"/>
    <child link="c_206_height_check_system_base_link"/>
  </joint>
  <joint name="c_207_workpiece_feeder_joint" type="fixed">
    <origin rpy="0 0 0" xyz="1.1 0 0"/>
    <parent link="world"/>
    <child link="c_207_workpiece_feeder_base_link"/>
  </joint>
  <joint name="c_208_workpiece_lifter_joint" type="fixed">
    <origin rpy="0 0 0" xyz="-0.28 0.85 0"/>
    <parent link="c_207_workpiece_feeder_base_link"/>
    <child link="c_208_workpiece_lifter_base_link"/>
  </joint>
  <joint name="c_303_robot_arm_2_joint" type="fixed">
    <origin rpy="0 0 1.571" xyz="-0.6 2.3 0"/>
    <parent link="world"/>
    <child link="c_303_robot_arm_2_base_link"/>
  </joint>
  <joint name="c_304_pick_place_system_2_joint" type="fixed">
    <origin rpy="0 0 0" xyz="0 2 0"/>
    <parent link="world"/>
    <child link="c_304_pick_place_system_2_base_link"/>
  </joint>
  <joint name="c_305_workpiece_holder_2_joint" type="fixed">
    <origin rpy="0 0 0" xyz="0.25 3.6 0"/>
    <parent link="world"/>
    <child link="c_305_workpiece_holder_2_base_link"/>
  </joint>
  <joint name="c_306_height_check_system_2_joint" type="fixed">
    <origin rpy="0 0 3.142" xyz="0.7 3.2 0"/>
    <parent link="world"/>
    <child link="c_306_height_check_system_2_base_link"/>
  </joint>
  <joint name="c_307_workpiece_feeder_2_joint" type="fixed">
    <origin rpy="0 0 0" xyz="1.1 2 0"/>
    <parent link="world"/>
    <child link="c_307_workpiece_feeder_2_base_link"/>
  </joint>
  <joint name="c_308_workpiece_lifter_2_joint" type="fixed">
    <origin rpy="0 0 0" xyz="-0.28 2.85 0"/>
    <parent link="c_307_workpiece_feeder_2_base_link"/>
    <child link="c_308_workpiece_lifter_2_base_link"/>
  </joint>
</robot>
